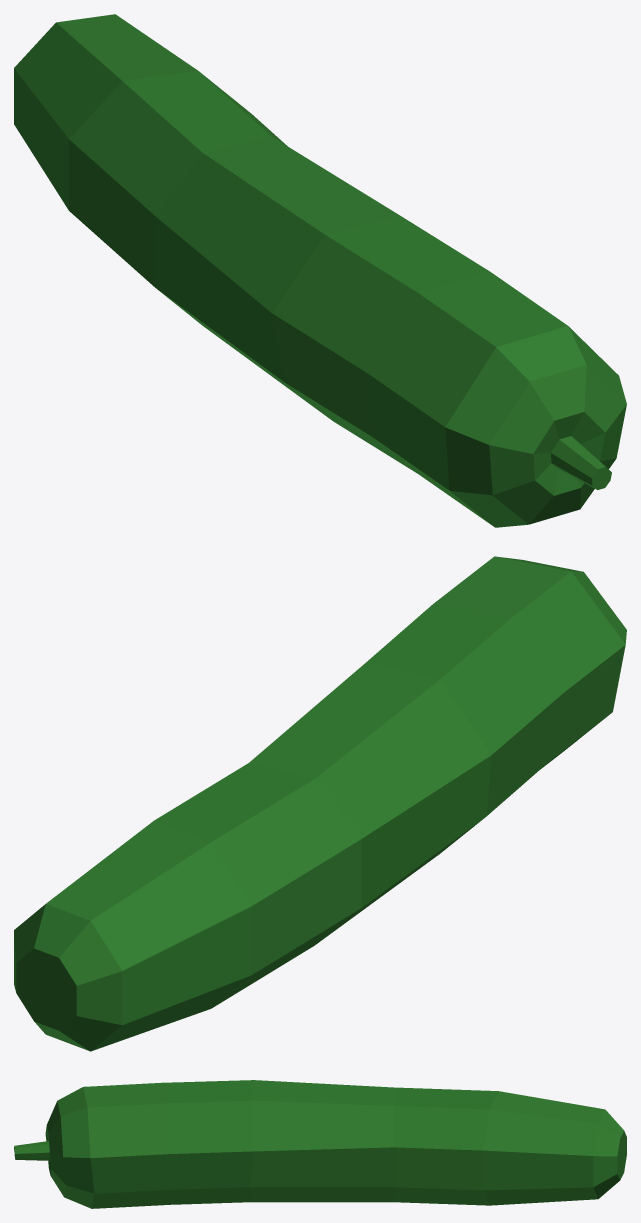
The model's file is cucumber.fbx.
3 renders of one model, top to bottom at view 1: azimuth 30°, elevation 25°; view 2: azimuth 150°, elevation 25°; view 3: azimuth 270°, elevation 25°, orthographic. The views are drawn at different scales.
Visible parts, largest first — view 1: Cylinder.042; view 2: Cylinder.042; view 3: Cylinder.042.
Part boxes in pixels (x1,y1,x2,y2): Cylinder.042: [14, 14, 626, 527]; Cylinder.042: [14, 556, 626, 1051]; Cylinder.042: [14, 1080, 626, 1208].
Size of the model in its own units: 6.04 by 5.43 by 28.78.
